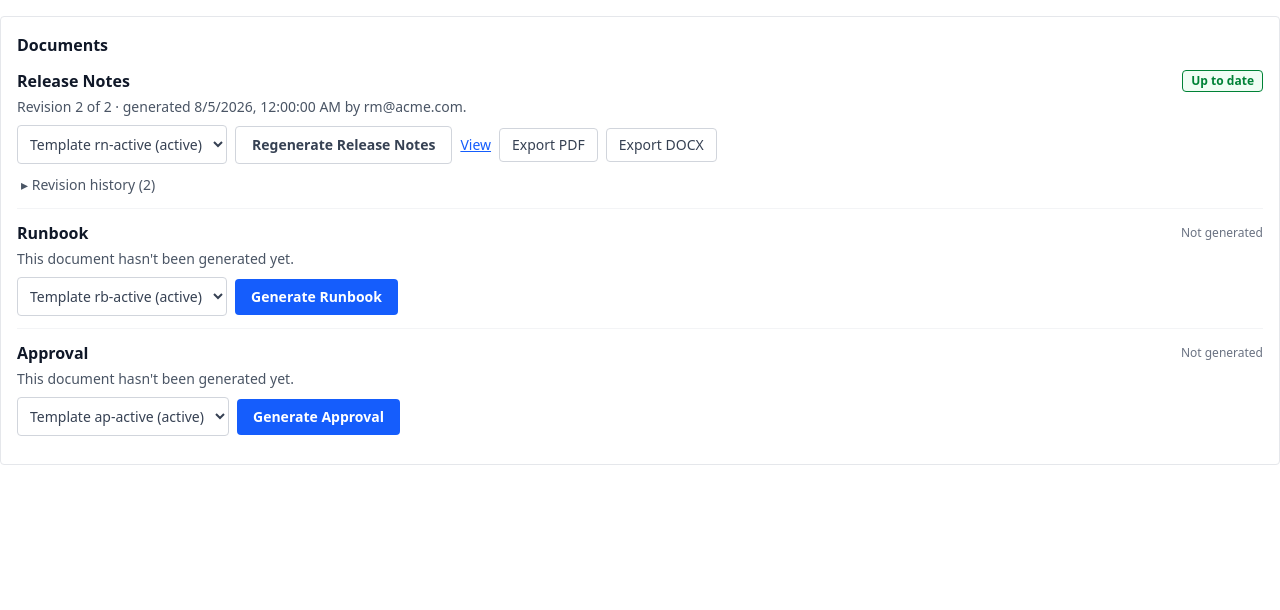
Test: DocumentsSection › revisionHistoryListsNewestFirstWithLatestAndSupersededLabels
Expected: the heading "Release Notes" is shown, x1=17 y1=69 x2=130 y2=93
Expected: the element that starts with "Release Notes" is shown, x1=17 y1=57 x2=1263 y2=209
Click the button "▸ Revision history (2)": (88, 185) x1=17 y1=175 x2=159 y2=195
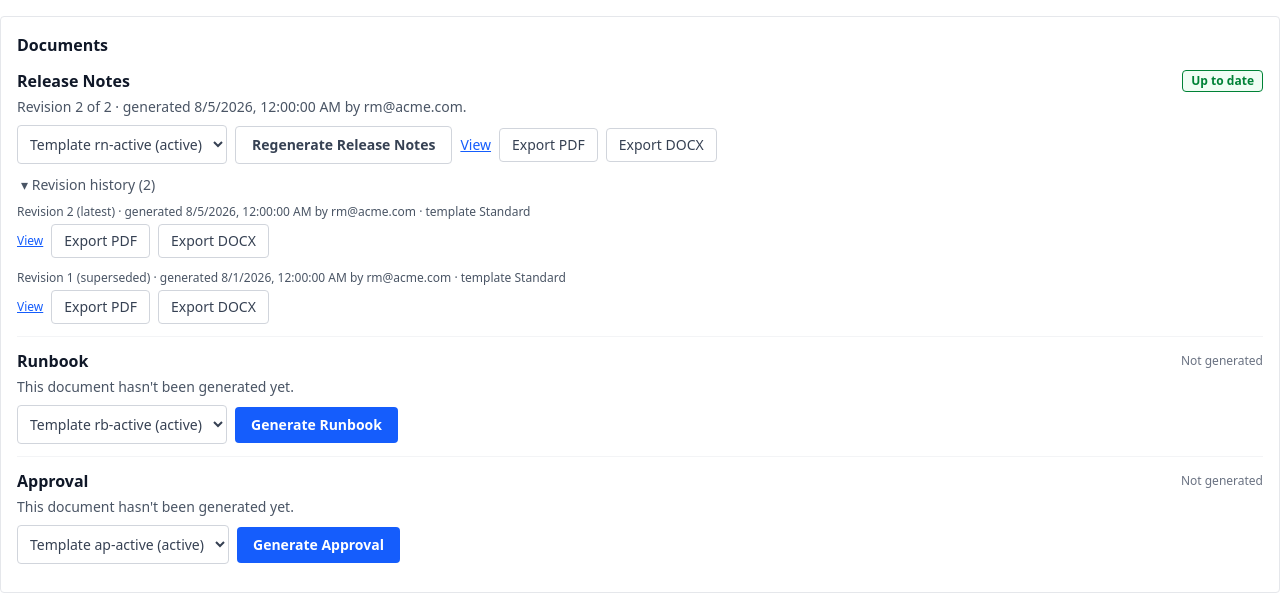
Expected: the list item that starts with "Revision 2" is shown, x1=17 y1=203 x2=77 y2=220
Expected: the list item that starts with "Revision 2" shows "(latest)", x1=77 y1=203 x2=115 y2=220
Expected: the list item that starts with "Revision 1" is shown, x1=17 y1=269 x2=77 y2=286
